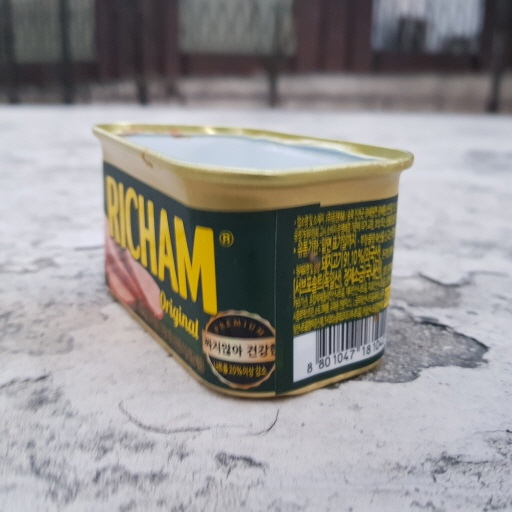Metal_2: (88, 112, 416, 401)
